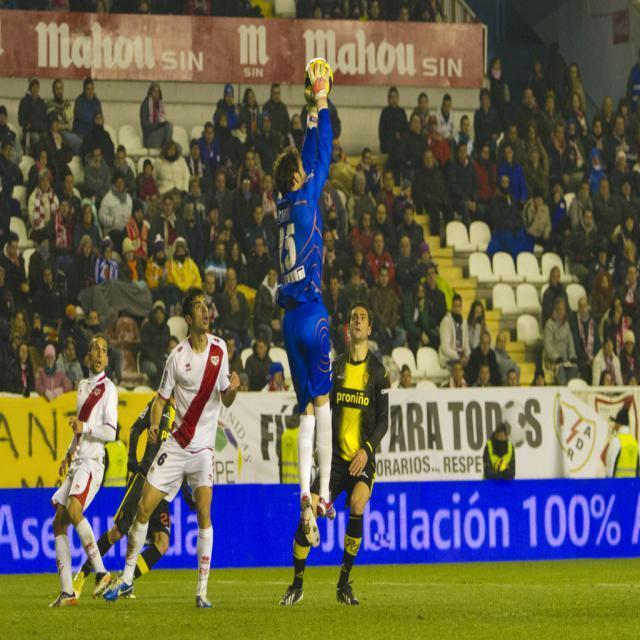football: (292, 53, 344, 100)
